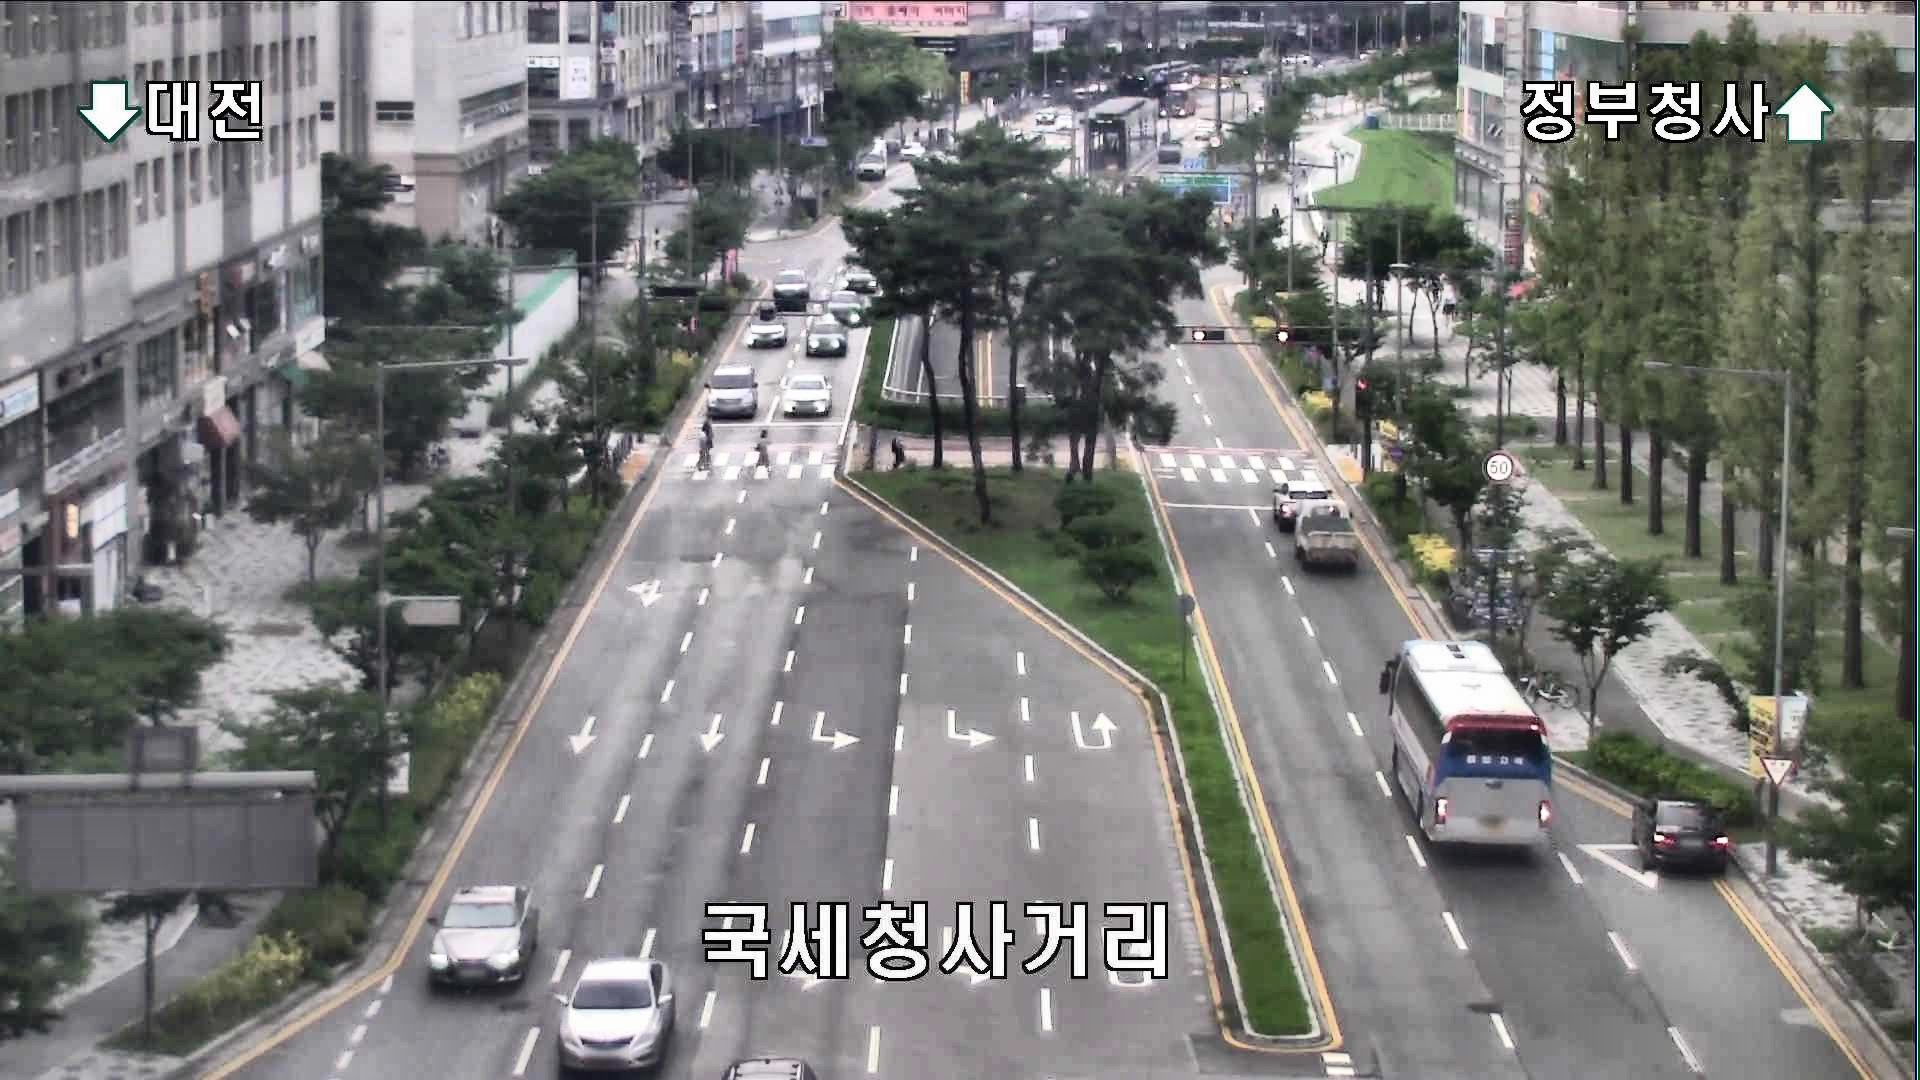crosswalk: (887, 422, 909, 475), (696, 421, 716, 471), (753, 429, 774, 475)
